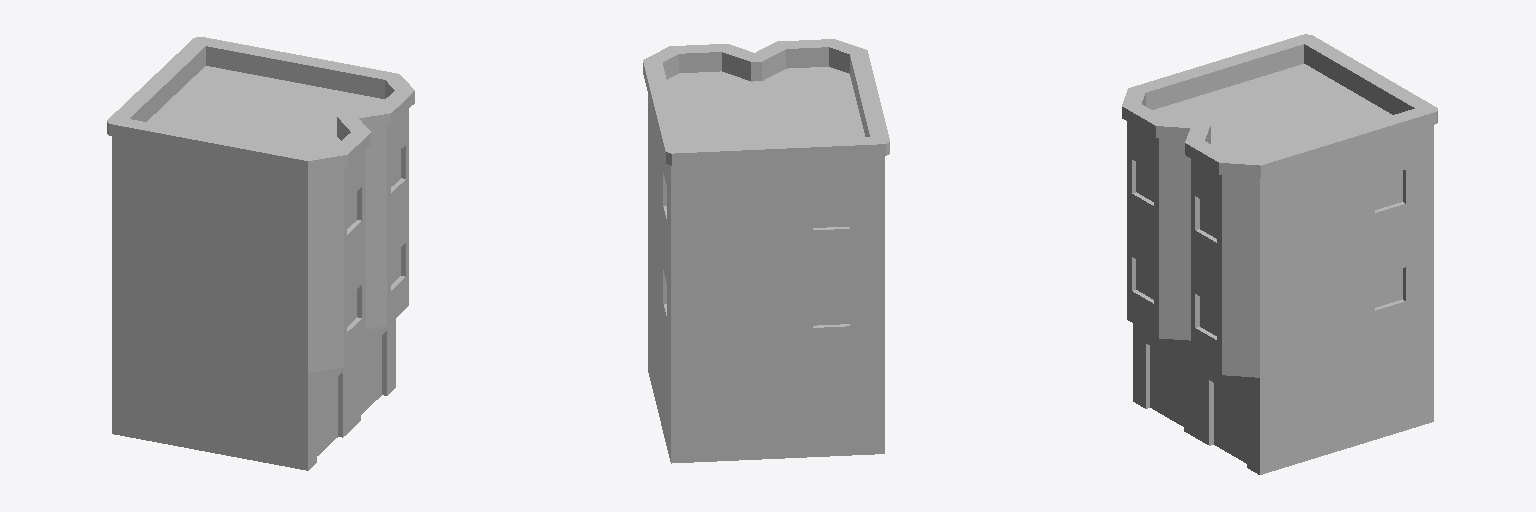
The model's file is variant_30.obj.
The picture shows the model from 3 angles: view 1: azimuth 30°, elevation 25°; view 2: azimuth 150°, elevation 25°; view 3: azimuth 270°, elevation 25°; orthographic projection.
Visible parts, largest first — view 1: Building; view 2: Building; view 3: Building.
Part boxes in pixels (left/top/right/bottom): Building: left=107, top=37, right=414, bottom=470; Building: left=643, top=39, right=889, bottom=463; Building: left=1122, top=34, right=1437, bottom=474.
Bounding box in the file's own units: 1.15 × 1.28 × 1.18.